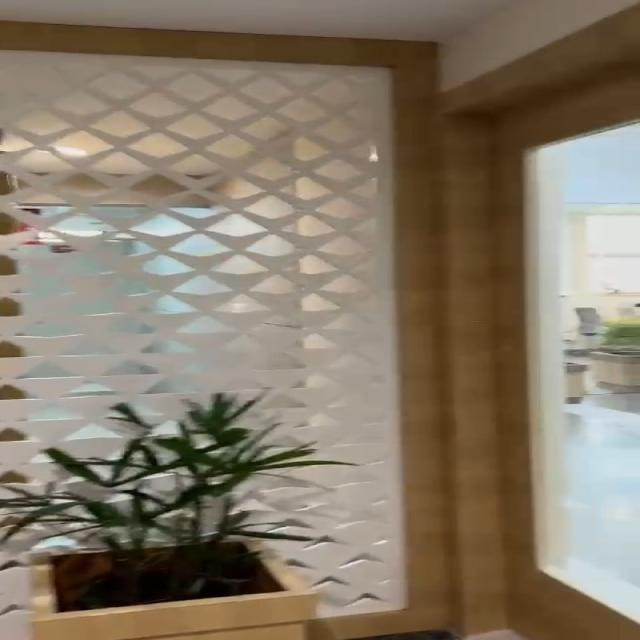door: (422, 107, 640, 634)
furniture: (0, 400, 326, 640)
